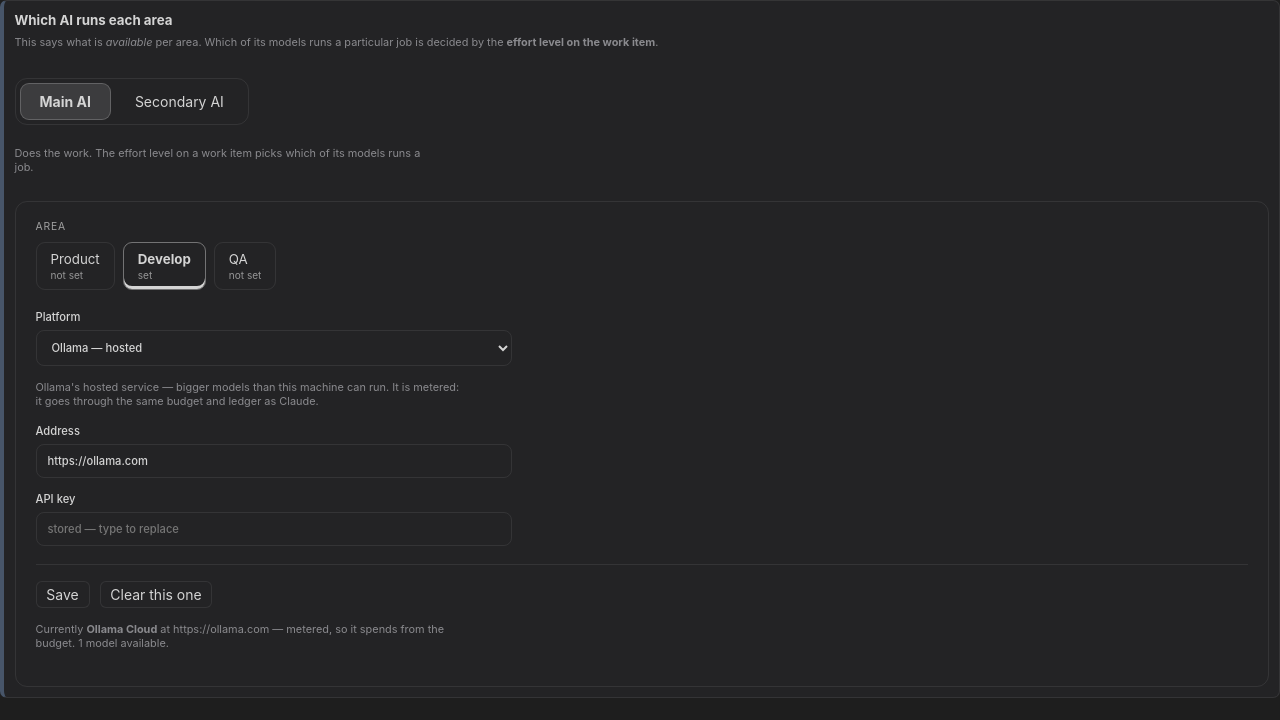
Test case: AiRouting › follows the cell being looked at rather than keeping the last form
Expected: the dropdown labelled "Platform" shows "Ollama — hosted", [36,330,512,366]
Click the tab "Product not set": x=75, y=266 [36,242,115,290]
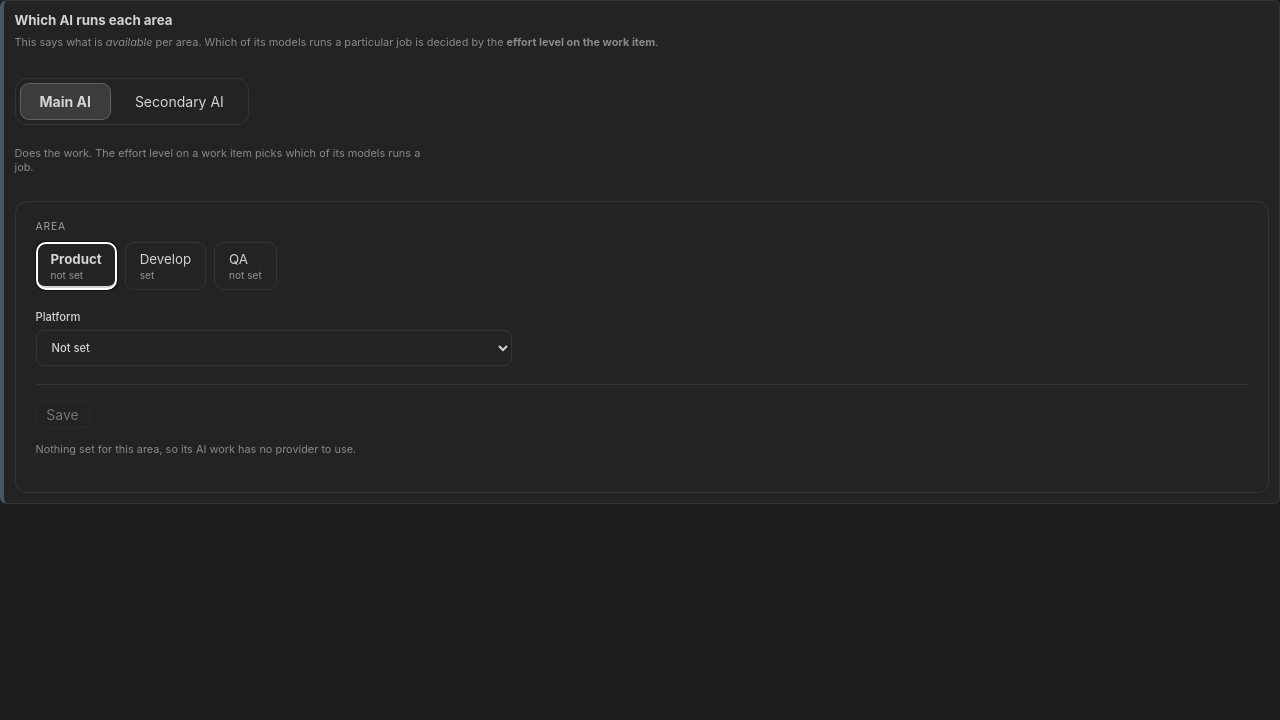
Expected: the dropdown labelled "Platform" shows "Not set", [36,330,512,366]
